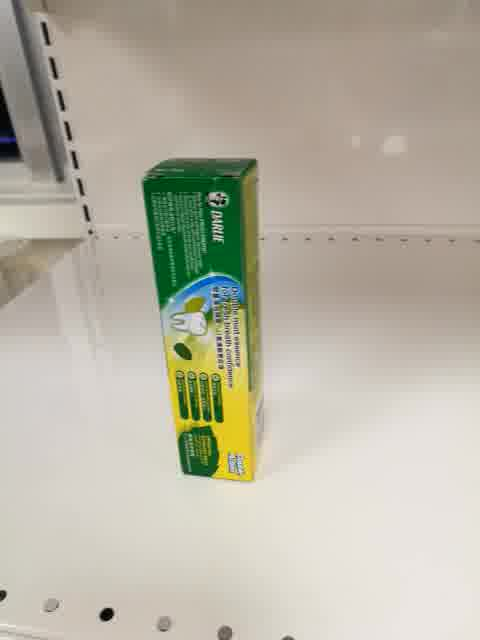toothpaste: (141, 156, 264, 482)
